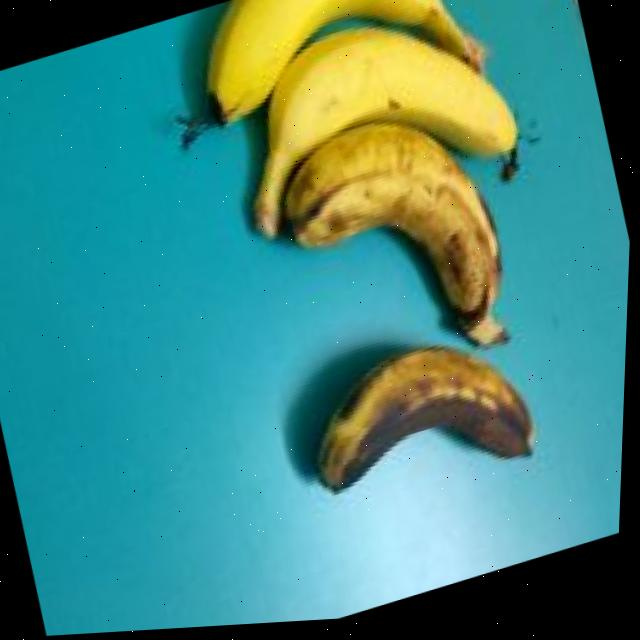Wet: (254, 92, 531, 412), (295, 315, 552, 532)
